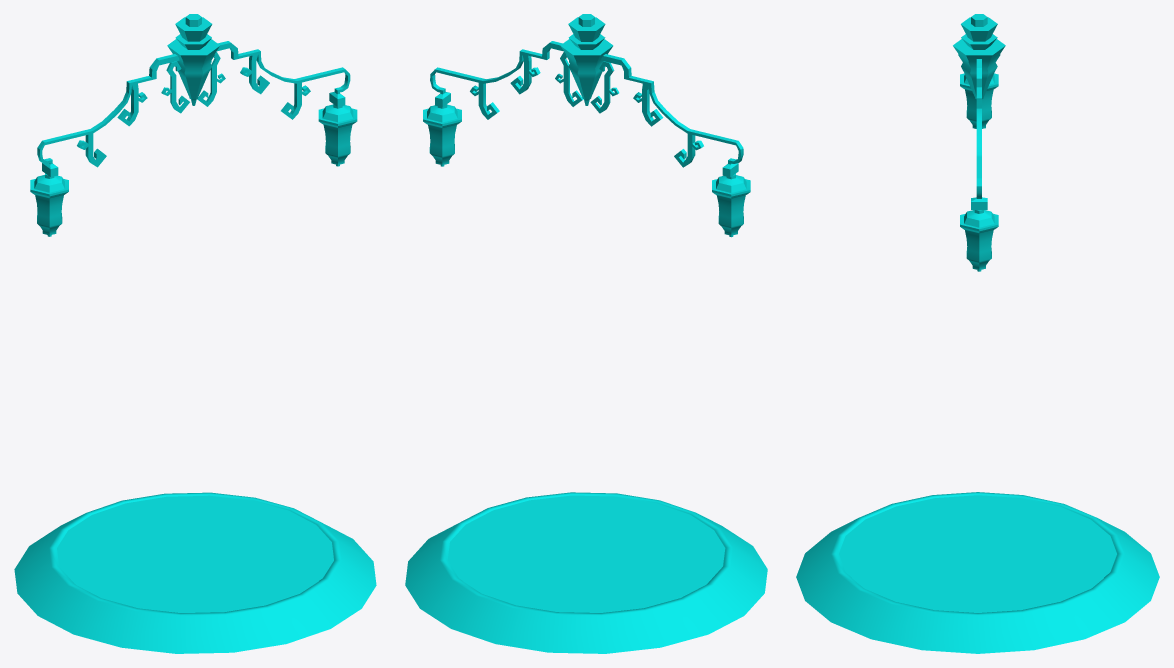
The model's file is checkpoint_01_mesh.fbx.
3 views of the same model, side by side, from view 1: azimuth 30°, elevation 25°; view 2: azimuth 150°, elevation 25°; view 3: azimuth 270°, elevation 25° (orthographic).
Parts seen in each view (by area): view 1: checkpoint_01_base, checkpoint_01_glass; view 2: checkpoint_01_base, checkpoint_01_glass; view 3: checkpoint_01_base, checkpoint_01_glass.
Boxes of the visible parts, x1,y1,x2,y2 form: checkpoint_01_base: (14,14,376,653); checkpoint_01_glass: (57,495,333,612); checkpoint_01_base: (405,14,767,653); checkpoint_01_glass: (447,495,725,612); checkpoint_01_base: (796,14,1159,653); checkpoint_01_glass: (839,495,1116,612).
Bounding box in the file's own units: 212 × 346 × 204.
